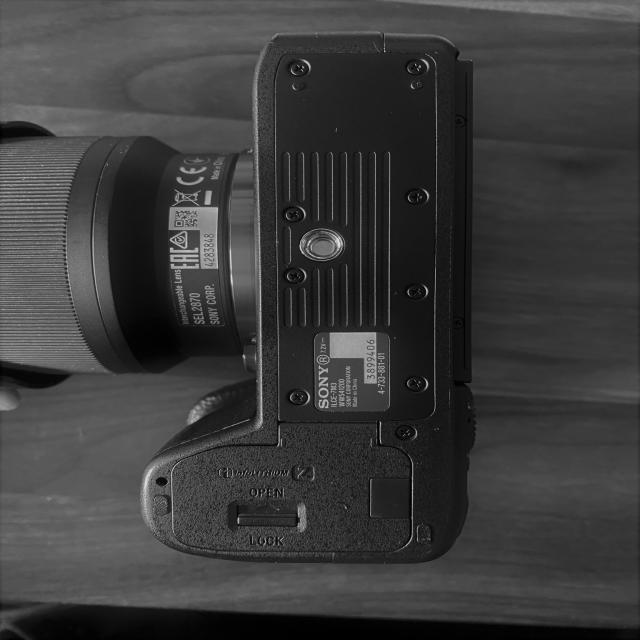PhillipsScrewHead: (406, 282, 426, 302), (407, 188, 428, 206), (404, 59, 427, 75), (288, 389, 308, 407), (284, 268, 306, 284), (284, 206, 304, 223), (405, 376, 426, 392), (288, 61, 309, 76), (397, 424, 415, 440), (451, 113, 466, 131), (450, 316, 464, 332)
